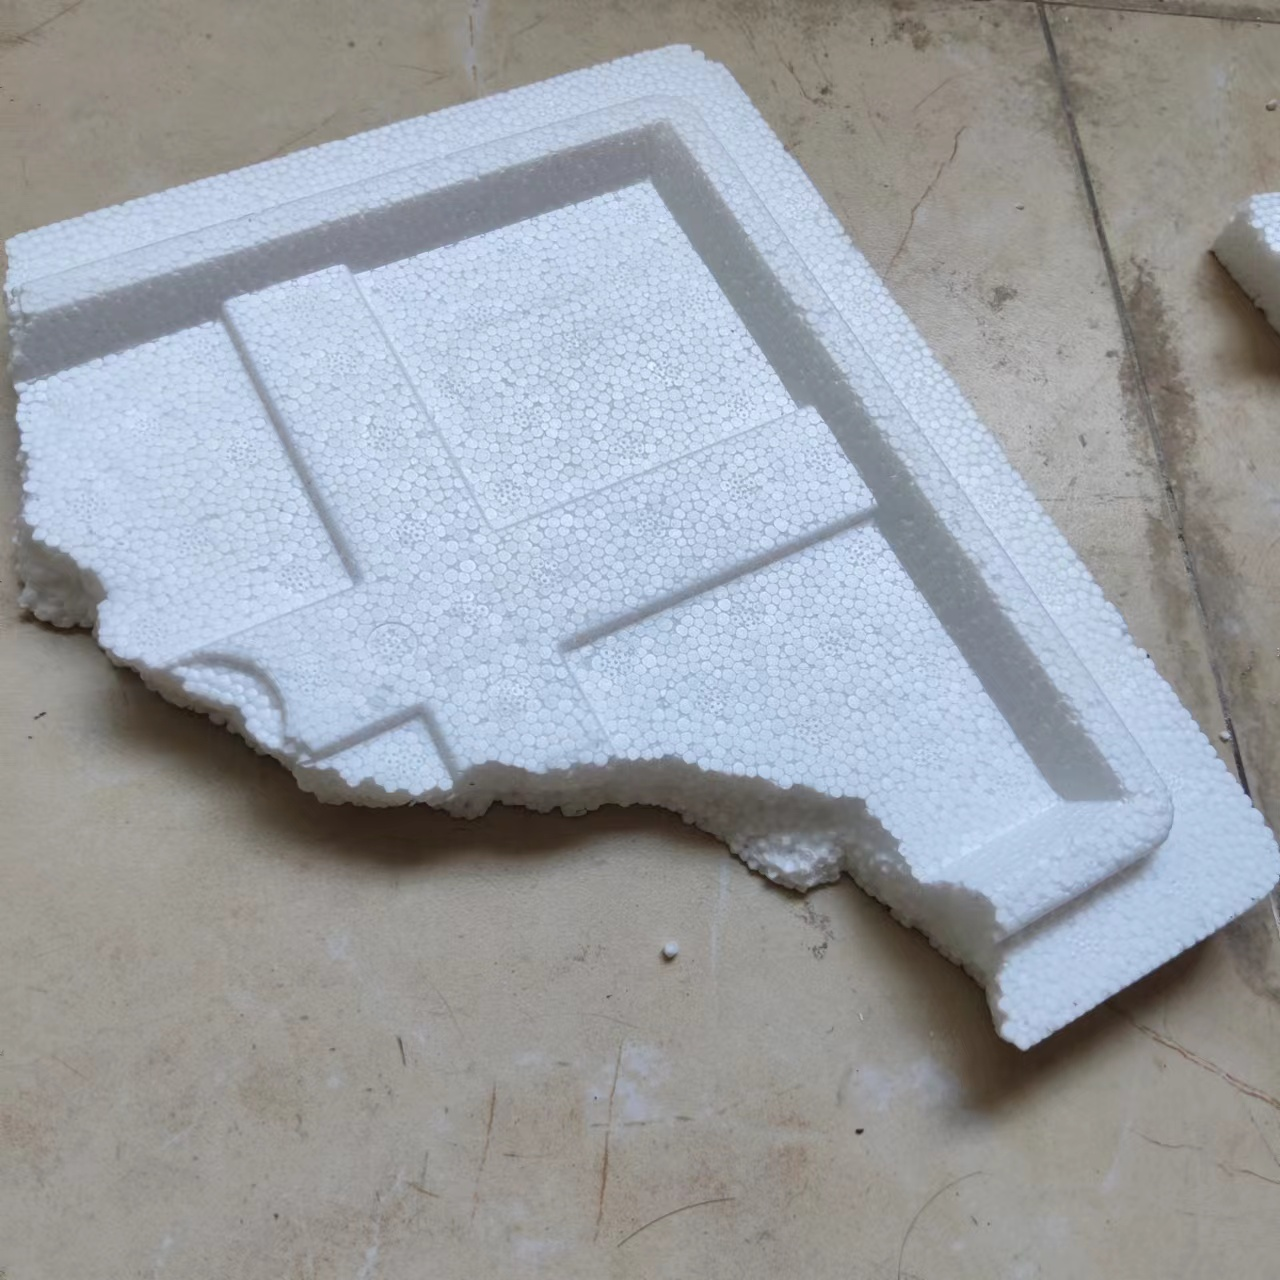5/可回收垃圾/泡沫: (4, 42, 1280, 1050), (1208, 188, 1280, 329)
